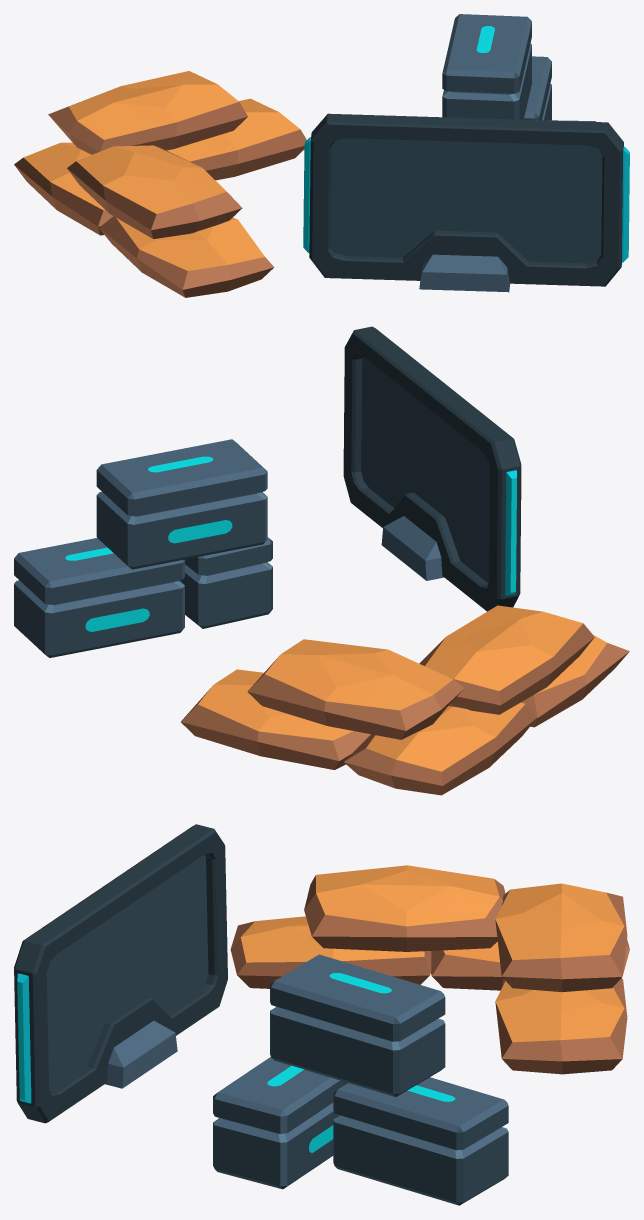
The model's file is Buildings_0.fbx.
3 renders of one model, top to bottom at view 1: azimuth 30°, elevation 25°; view 2: azimuth 150°, elevation 25°; view 3: azimuth 270°, elevation 25°, orthographic. The views are drawn at different scales.
Parts seen in each view (by area): view 1: Buildings_0; view 2: Buildings_0; view 3: Buildings_0.
Boxes of the visible parts, x1,y1,x2,y2 form: Buildings_0: (14, 14, 629, 297); Buildings_0: (14, 326, 629, 795); Buildings_0: (14, 824, 629, 1205).
Size of the model in its own units: 416 by 416 by 146.
